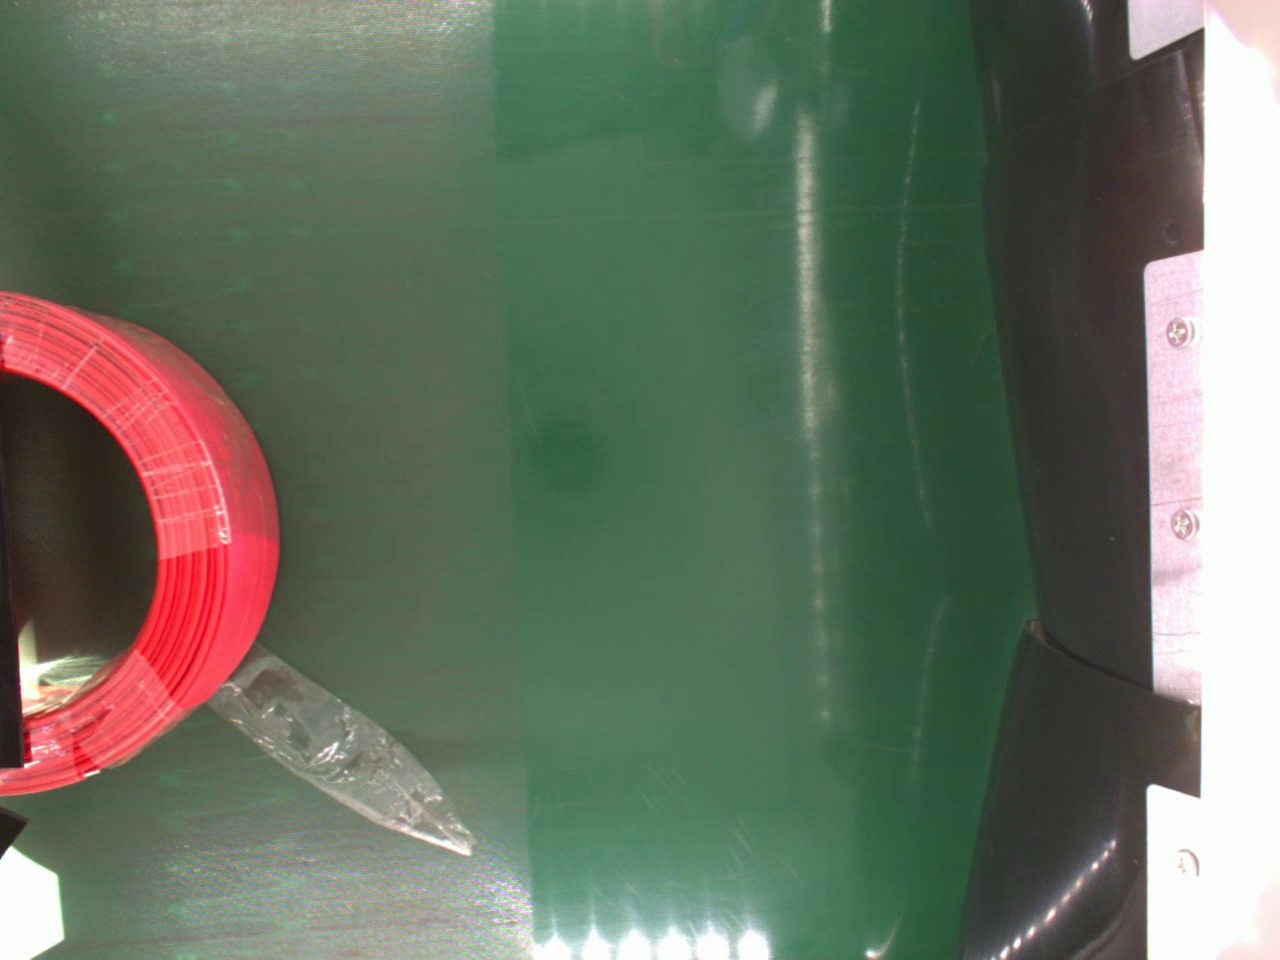red: (0, 287, 281, 791)
